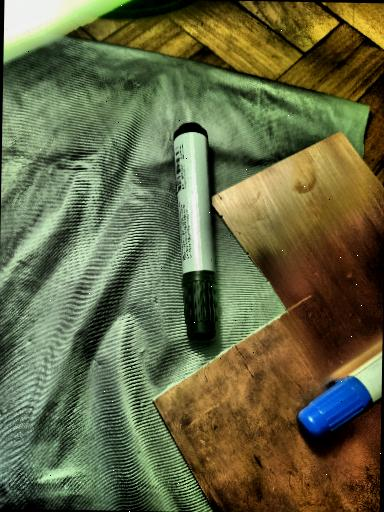marcador azul: (297, 352, 382, 440)
marcador negro: (174, 123, 217, 342)
